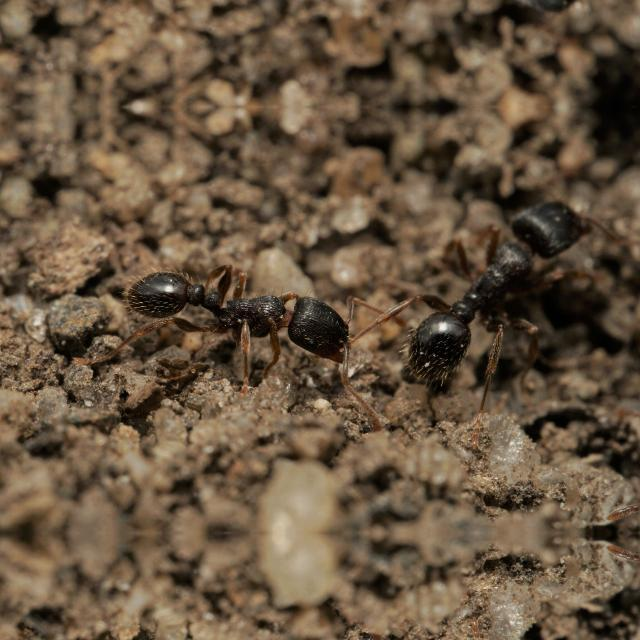Tetramorium: (79, 222, 414, 390), (374, 198, 592, 400)
